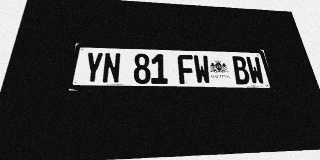1: (151, 54, 168, 84)
8: (134, 53, 151, 84)
B: (231, 56, 251, 84)
F: (177, 55, 195, 84)
N: (102, 52, 121, 84)
W: (245, 56, 266, 85), (193, 55, 212, 84)
Y: (83, 52, 104, 83)
